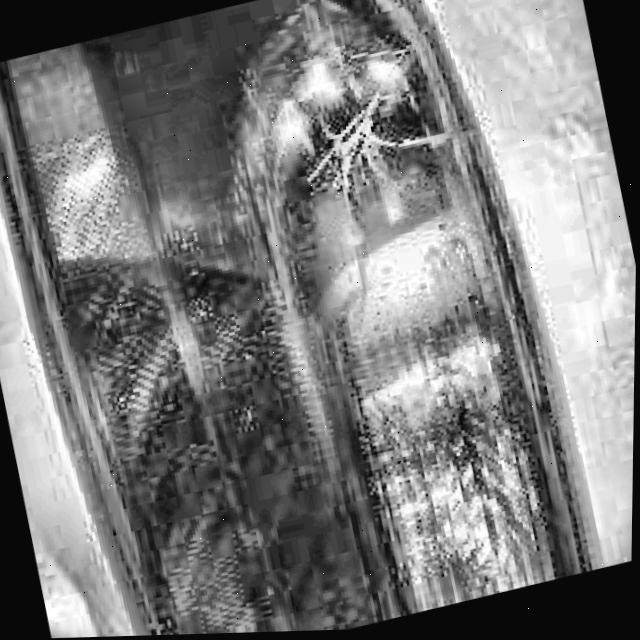tail_lamp: (331, 329, 541, 575), (282, 63, 436, 231)
